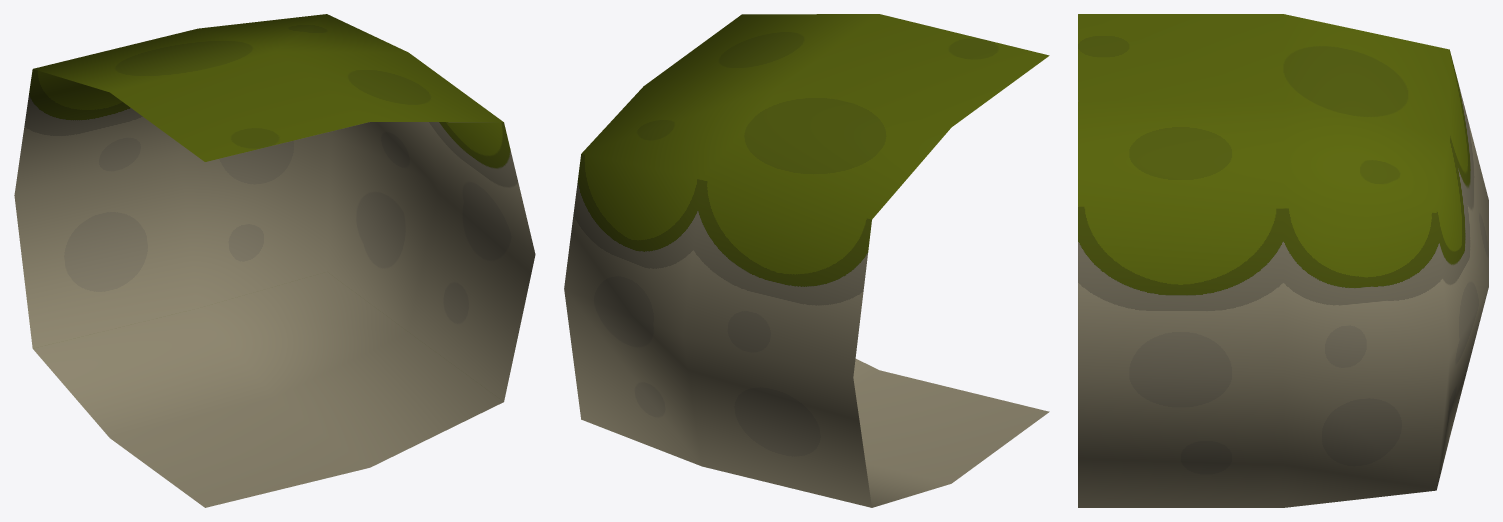
Rendered from ledge-corner.obj.
3 renders of one model, left to right at view 1: azimuth 30°, elevation 25°; view 2: azimuth 150°, elevation 25°; view 3: azimuth 270°, elevation 25°, orthographic. The views are drawn at different scales.
Visible parts, largest first — view 1: Cube.002; view 2: Cube.002; view 3: Cube.002.
Part boxes in pixels (<box>): Cube.002: <box>14,14,535,507</box>; Cube.002: <box>564,14,1049,507</box>; Cube.002: <box>1078,14,1488,507</box>.
Bounding box in the file's own units: 64 × 64 × 64.
Materials: 1 (1 with a texture image).
